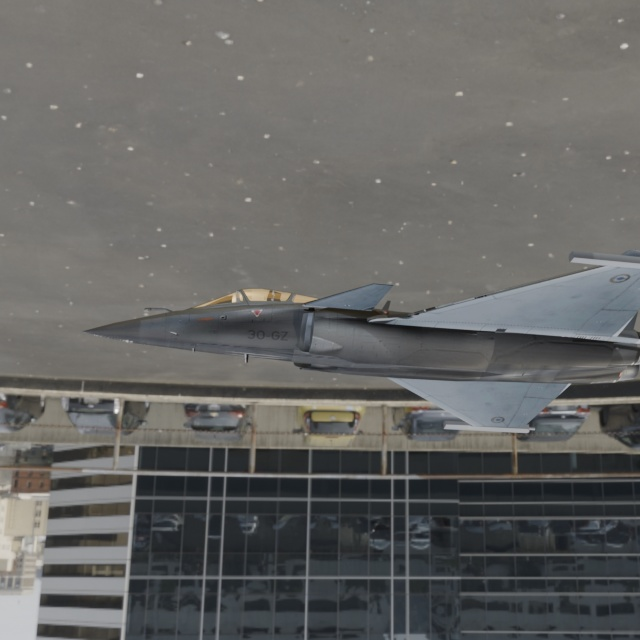dassault_rafale: (74, 73, 640, 450)
